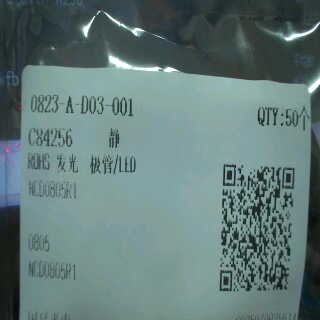LED: (51, 148, 137, 178)
